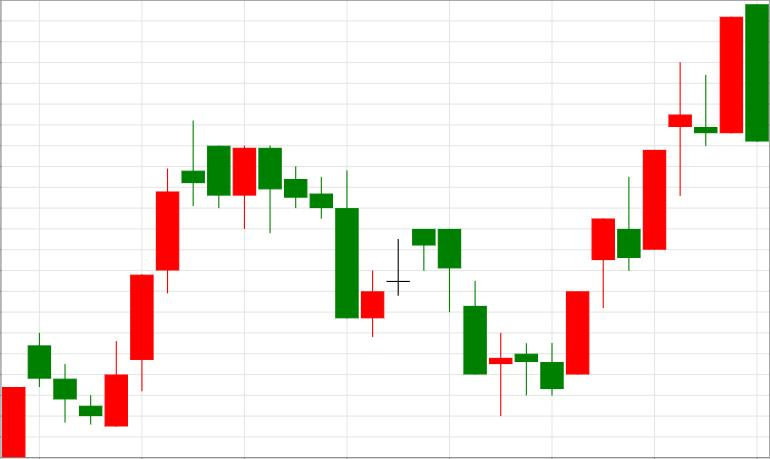bearish_engulfing_fall: (566, 4, 769, 375)
